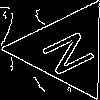N: (41, 24, 100, 79)
